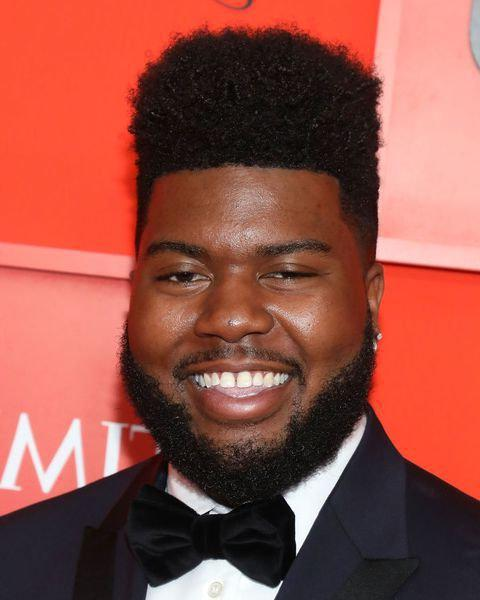Sober: (138, 175, 363, 458)
